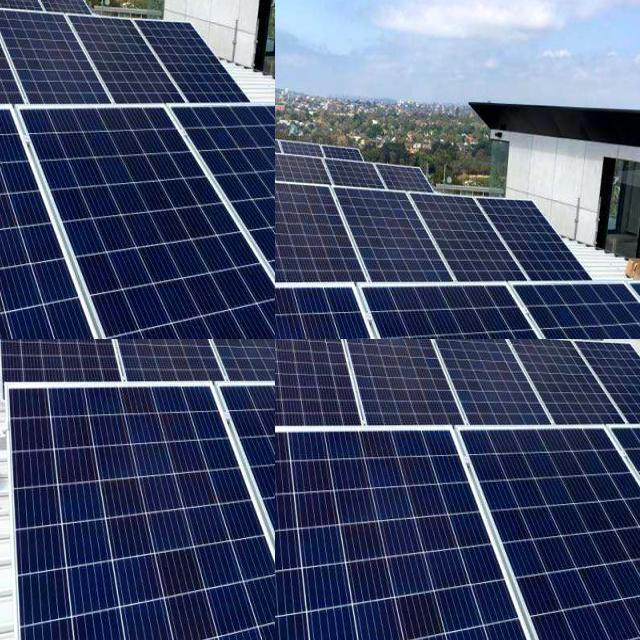crack: (275, 435, 541, 640), (470, 447, 640, 640), (495, 339, 636, 445), (335, 339, 474, 445), (423, 339, 554, 438), (275, 339, 364, 441), (568, 339, 640, 448), (299, 339, 376, 371), (352, 339, 442, 363), (275, 339, 314, 370)
shadow: (275, 102, 387, 257), (0, 165, 67, 225), (0, 0, 51, 74)
